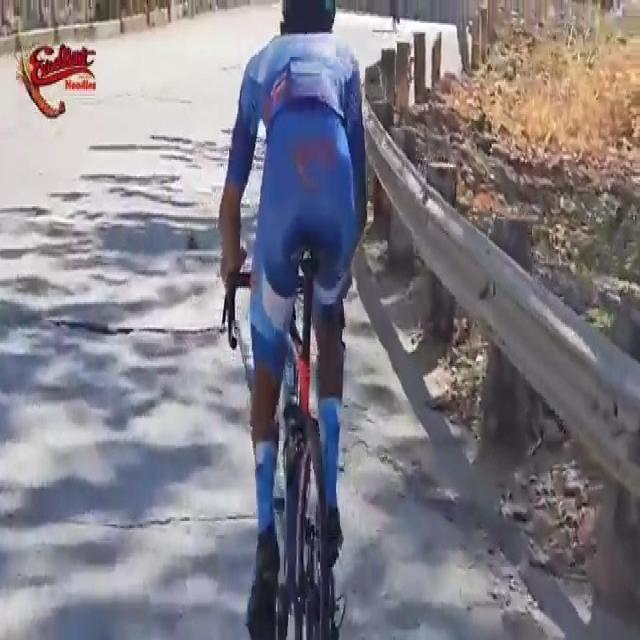bike: (213, 0, 370, 640)
